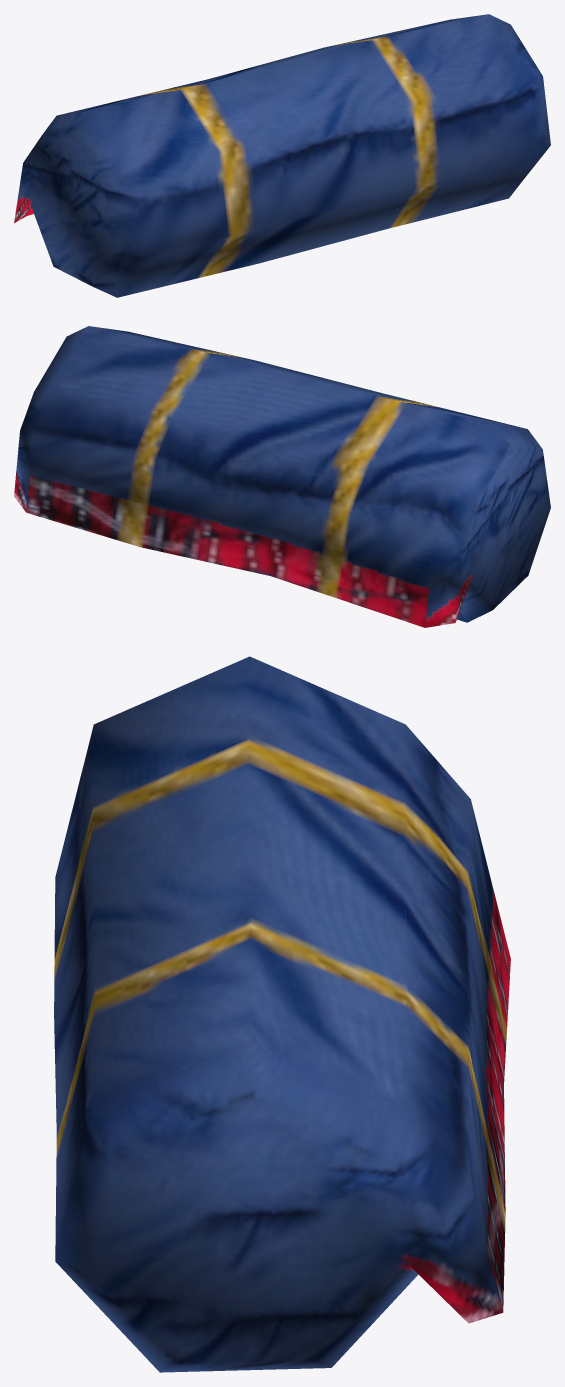
File: sleeping_bag_01.glb
3 views of the same model, one above another, from view 1: azimuth 30°, elevation 25°; view 2: azimuth 150°, elevation 25°; view 3: azimuth 270°, elevation 25° (orthographic). The views are drawn at different scales.
Parts seen in each view (by area): view 1: sleeping_bag_01; view 2: sleeping_bag_01; view 3: sleeping_bag_01.
Part boxes in pixels (x1,y1,x2,y2): sleeping_bag_01: [14, 14, 550, 297]; sleeping_bag_01: [14, 326, 550, 627]; sleeping_bag_01: [54, 656, 510, 1372].
Bounding box in the file's own units: 0.8917 × 0.3524 × 0.4009.
Materials: 1 (1 with a texture image).
